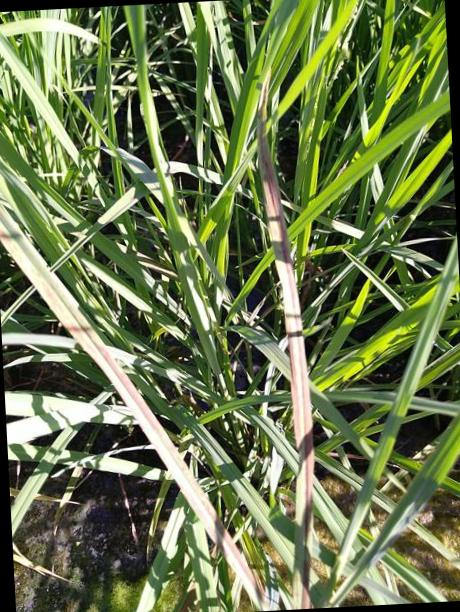Leaf Streak: (67, 326, 270, 611), (257, 71, 314, 609), (0, 221, 28, 279)
